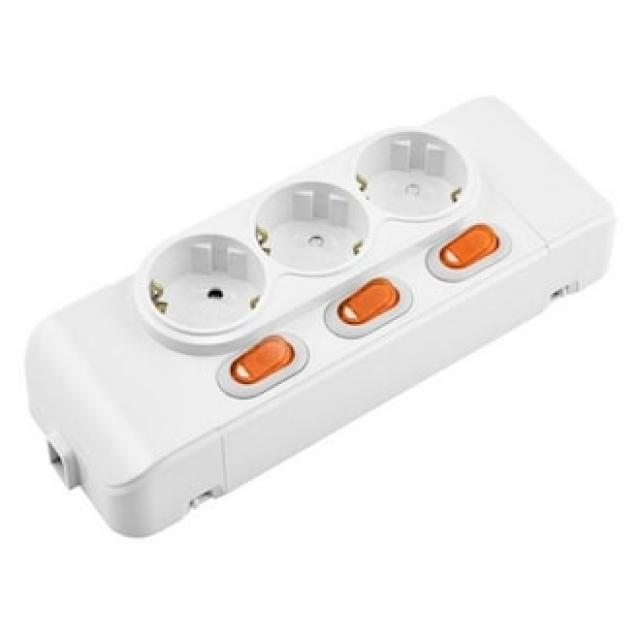typeb: (21, 70, 626, 516)
